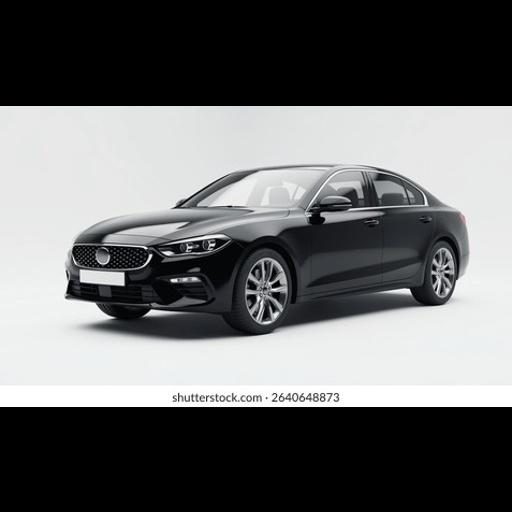sedan: (67, 165, 469, 332)
